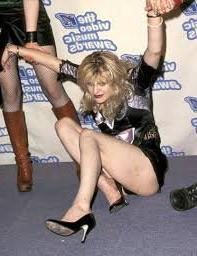Drunk: (84, 62, 113, 103)
